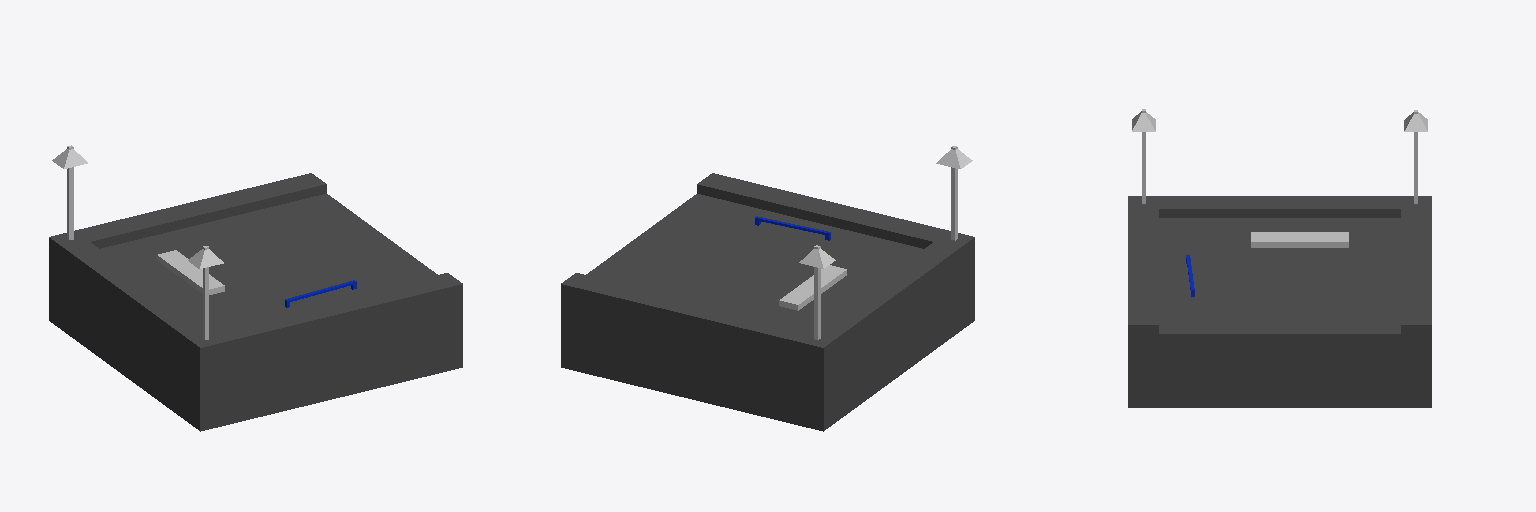
Rendered from World.obj.
3 views of the same model, side by side, from view 1: azimuth 30°, elevation 25°; view 2: azimuth 150°, elevation 25°; view 3: azimuth 270°, elevation 25° (orthographic).
Parts seen in each view (by area): view 1: Floor, Cube, Cube.3, Cube.2; view 2: Floor, Cube, Cube.3, Cube.2; view 3: Floor, Cube, Cube.2, Cube.3.
Boxes of the visible parts, box(x1,y1,x2,y2) form: Floor: box(49, 173, 462, 431); Cube: box(157, 250, 224, 294); Cube.3: box(52, 145, 87, 239); Cube.2: box(188, 246, 223, 339); Floor: box(561, 173, 974, 431); Cube: box(779, 265, 846, 310); Cube.3: box(799, 245, 835, 339); Cube.2: box(936, 146, 972, 240); Floor: box(1128, 196, 1431, 407); Cube: box(1251, 232, 1348, 247); Cube.2: box(1132, 109, 1155, 203); Cube.3: box(1404, 110, 1427, 203).
Size of the model in its own units: 1000 by 641 by 1000.